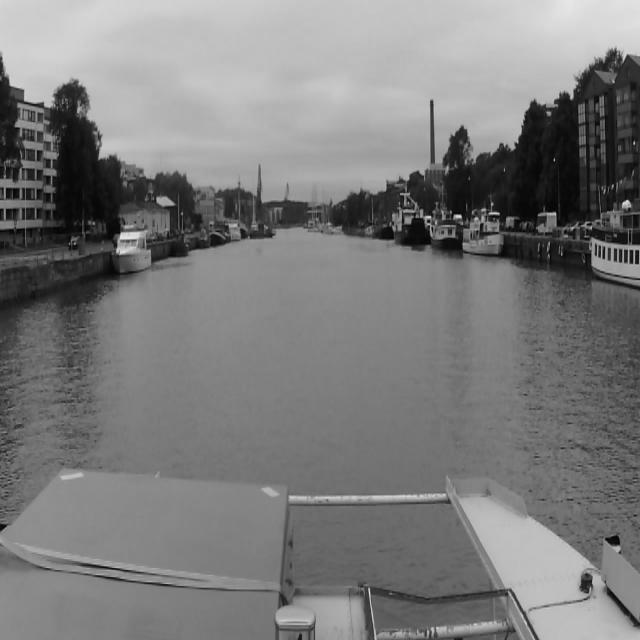ship: (590, 179, 640, 289), (462, 197, 504, 260), (392, 183, 426, 247), (112, 223, 152, 274), (430, 184, 458, 252), (172, 228, 190, 256), (246, 223, 276, 239), (210, 228, 226, 245), (198, 229, 210, 250)
